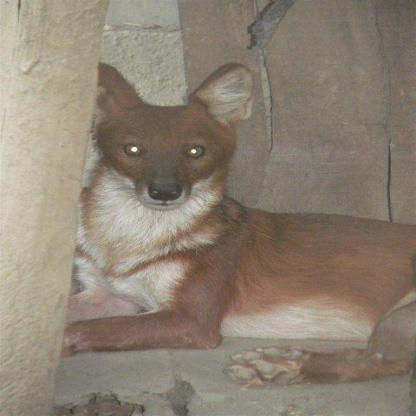dhole: (60, 63, 412, 384)
